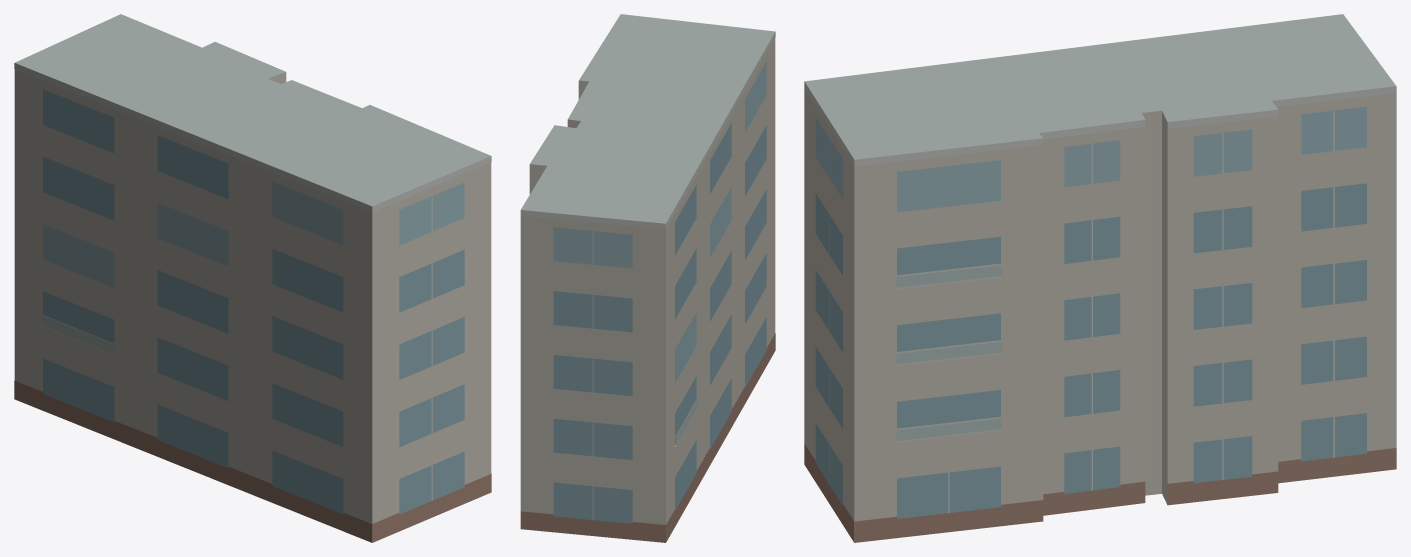
Rendered from survey-upis-32689050.glb.
The picture shows the model from 3 angles, left to right: view 1: azimuth 30°, elevation 25°; view 2: azimuth 150°, elevation 25°; view 3: azimuth 270°, elevation 25°; orthographic projection. The views are drawn at different scales.
Parts seen in each view (by area): view 1: survey-upis-32689050.tmp; view 2: survey-upis-32689050.tmp; view 3: survey-upis-32689050.tmp.
Part boxes in pixels (bbox=[...]): survey-upis-32689050.tmp: bbox=[14, 14, 491, 542]; survey-upis-32689050.tmp: bbox=[520, 14, 775, 542]; survey-upis-32689050.tmp: bbox=[804, 14, 1396, 542].
Size of the model in its own units: 11.04 by 13.52 by 18.94.
